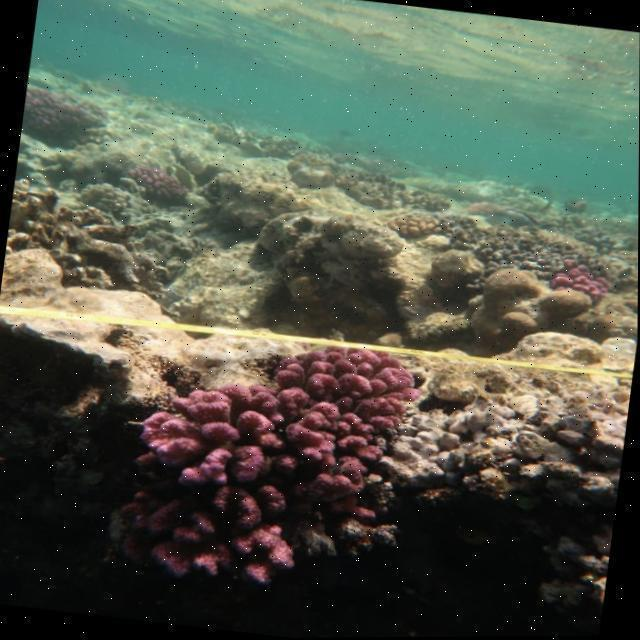Dead Coral: (14, 183, 161, 287)
Healthy Coral: (100, 312, 430, 601), (545, 260, 620, 302)
